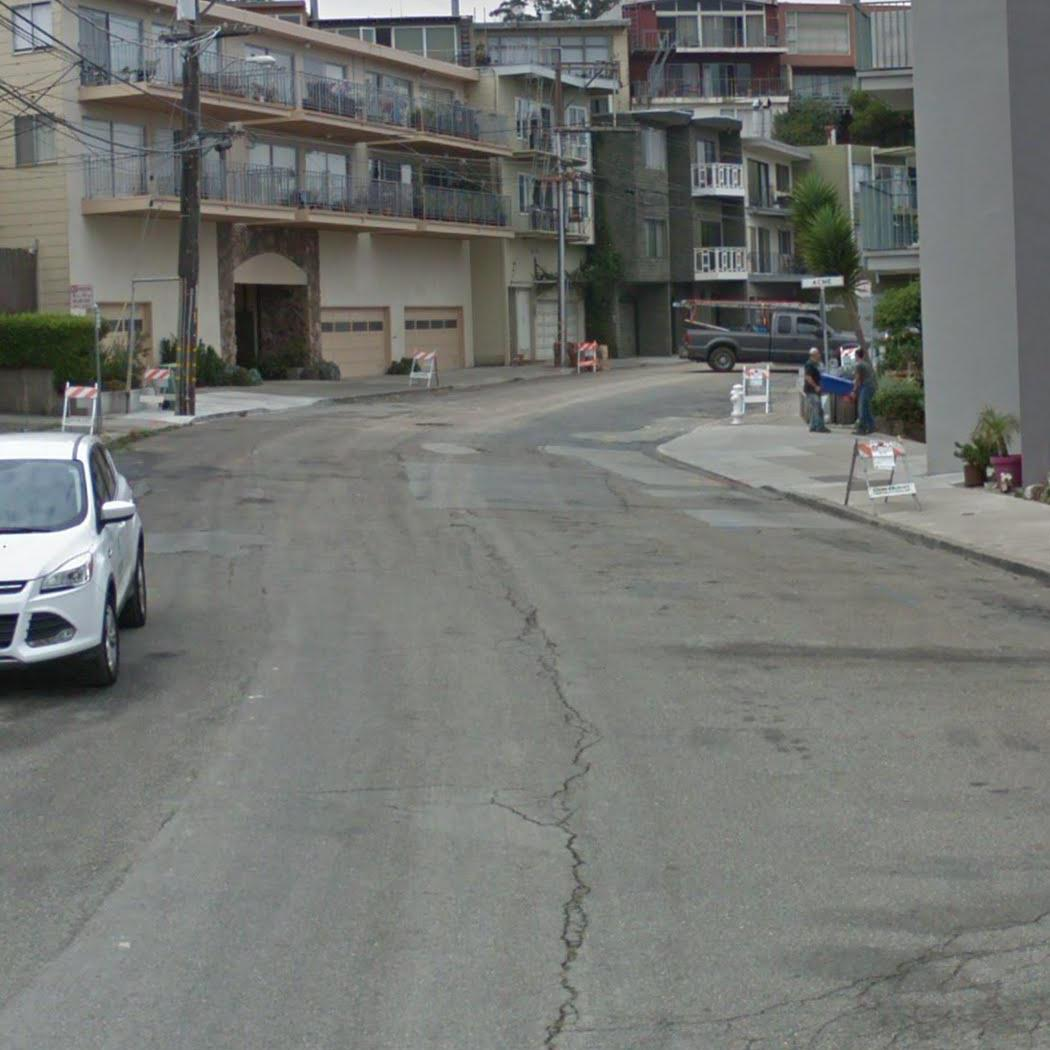No Parking: (66, 282, 96, 314)
